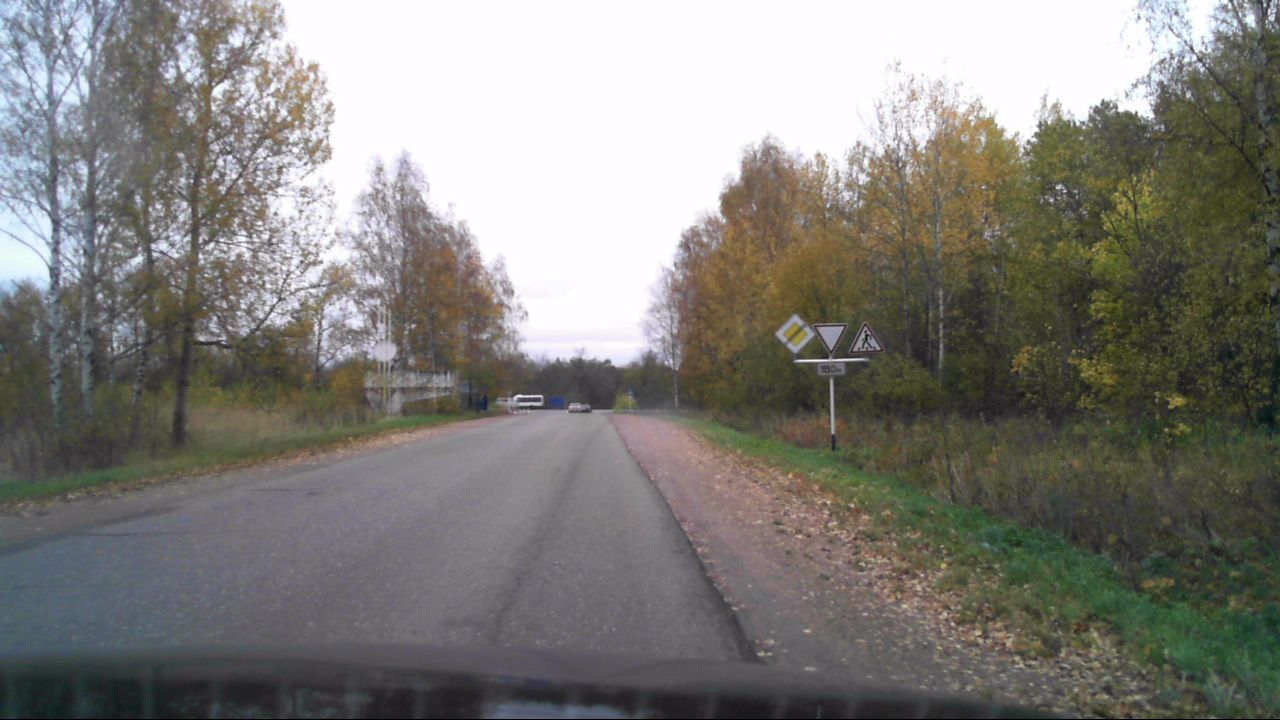main road: (774, 313, 813, 354)
